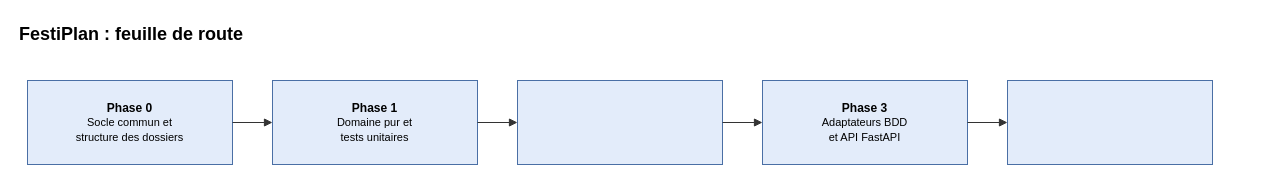
This 1264x182 diagram has some shape labels left out. Each missing label, with the centre of its shape:
Phase 2 Ports d'entrée/sortie et cas d'usage: (x=619, y=122)
Phase 4 Validation des 3 scénarios legacy et intégration: (x=1109, y=122)
